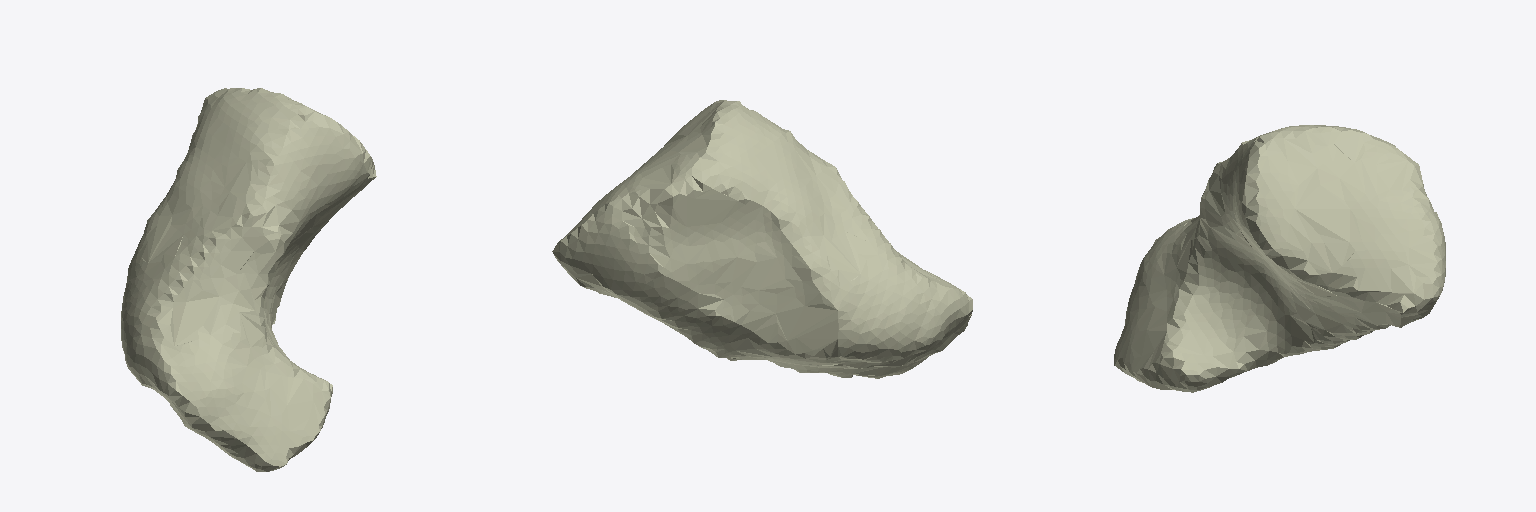
Rendered from Model_274_RH__Inferior_pulvinar_(IPul).obj.
3 views of the same model, side by side, from view 1: azimuth 30°, elevation 25°; view 2: azimuth 150°, elevation 25°; view 3: azimuth 270°, elevation 25° (orthographic).
Bounding box in the file's own units: 2.77 × 2.57 × 2.7.